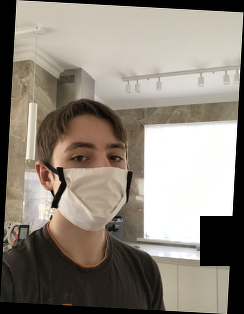with_mask: (54, 137, 132, 232)
